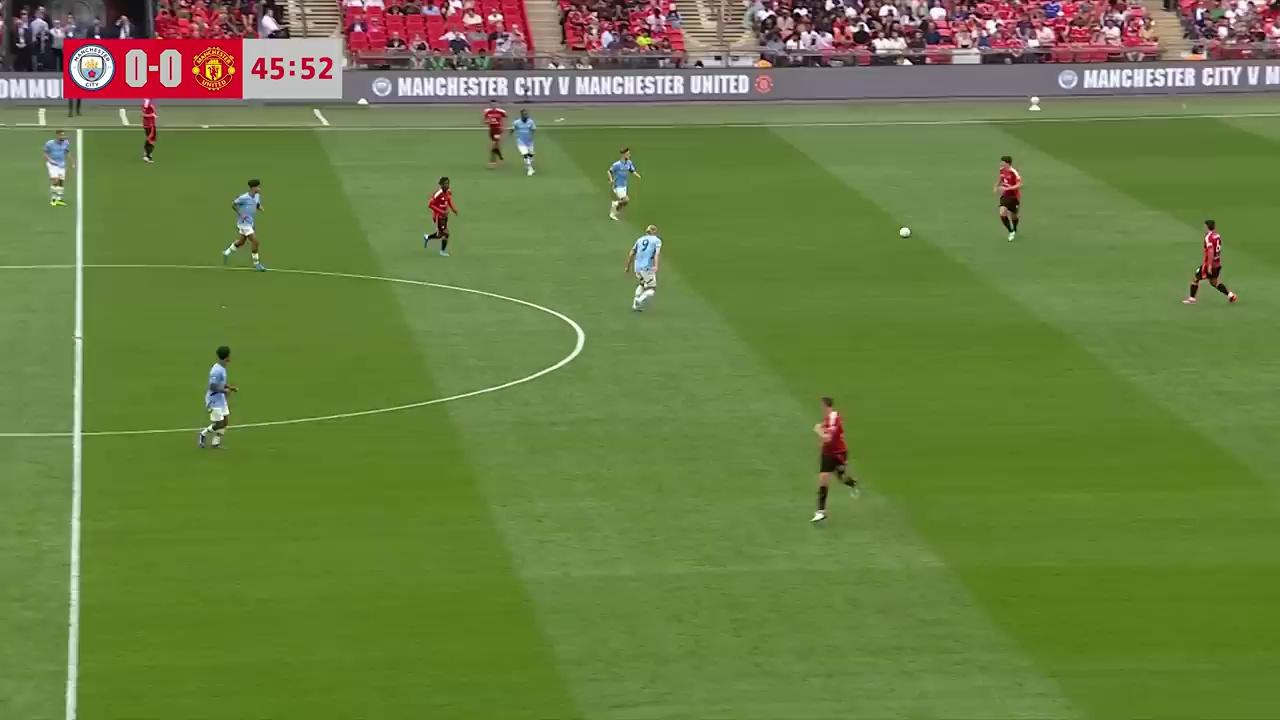ball: (897, 223, 911, 238)
player: (810, 396, 861, 524), (1182, 219, 1237, 306), (198, 344, 238, 450), (221, 178, 266, 271), (625, 224, 662, 307), (992, 155, 1023, 241), (426, 176, 458, 256), (606, 147, 640, 221), (43, 128, 71, 207), (481, 101, 509, 168), (511, 108, 537, 176), (139, 95, 157, 162)
